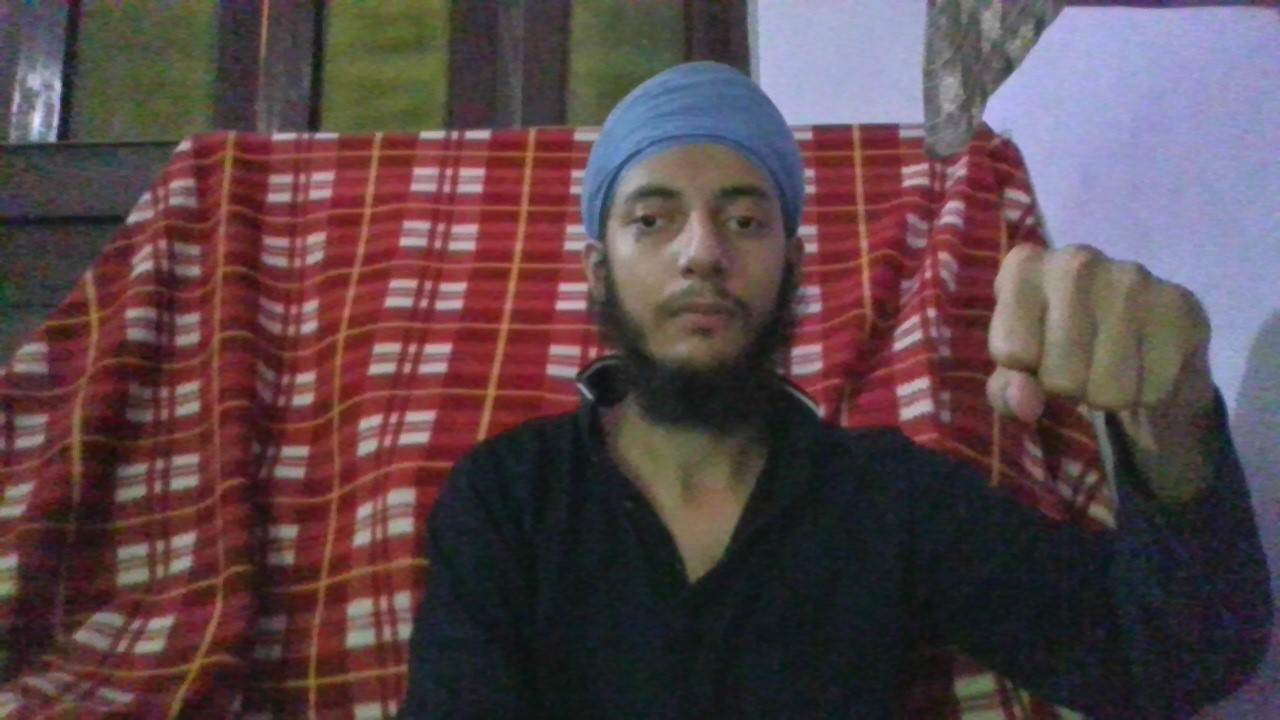Yes: (981, 243, 1201, 423)
